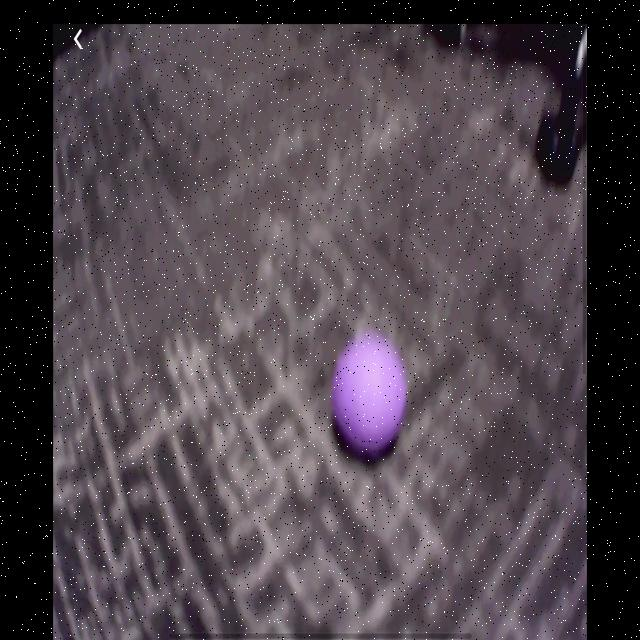ball: (331, 330, 409, 463)
